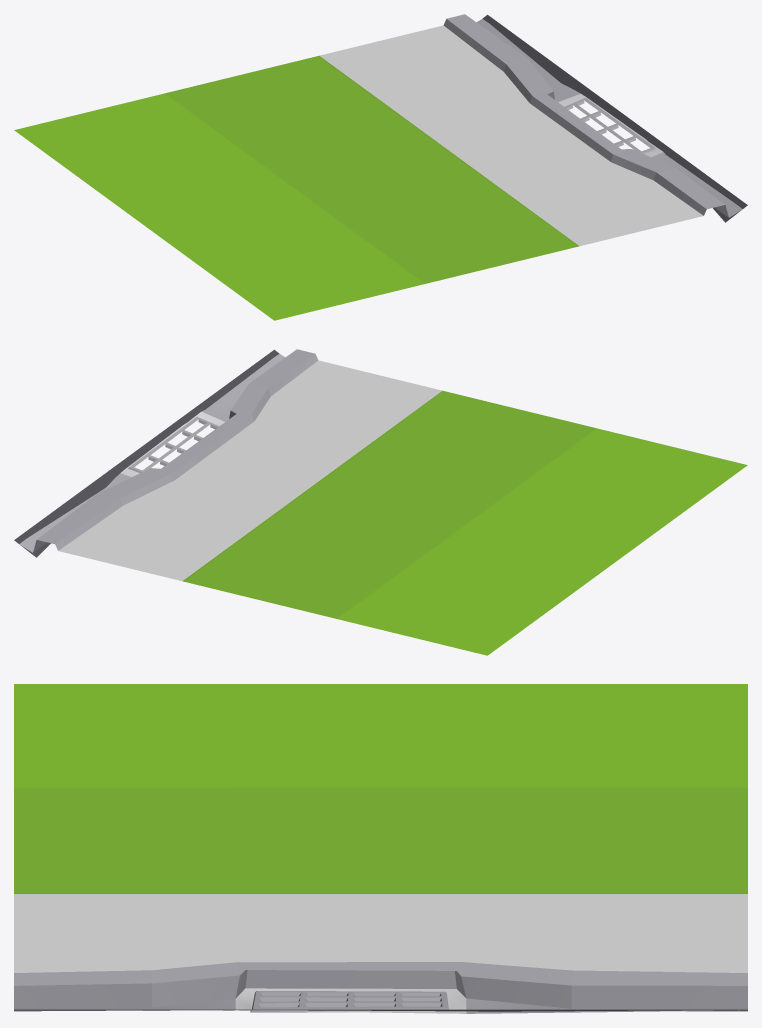
Rendered from sidewalk_default_gutter.fbx.
3 renders of one model, top to bottom at view 1: azimuth 30°, elevation 25°; view 2: azimuth 150°, elevation 25°; view 3: azimuth 270°, elevation 25°, orthographic. The views are drawn at different scales.
Parts seen in each view (by area): view 1: sidewalk_default_gutter; view 2: sidewalk_default_gutter; view 3: sidewalk_default_gutter.
Boxes of the visible parts, left/top/right/bottom form: sidewalk_default_gutter: left=14, top=14, right=747, bottom=320; sidewalk_default_gutter: left=14, top=349, right=747, bottom=655; sidewalk_default_gutter: left=14, top=684, right=747, bottom=1013.
Size of the model in its own units: 1050 by 41.09 by 1000.
